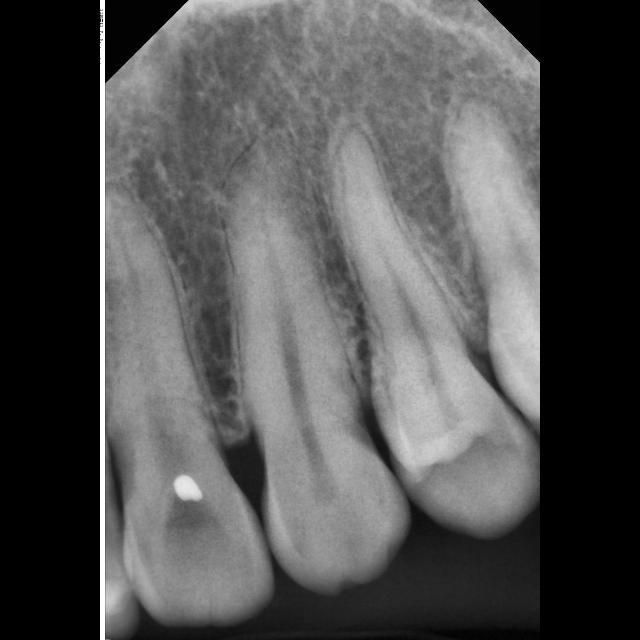teeth: (335, 131, 537, 534), (229, 154, 408, 591), (106, 197, 272, 624)
